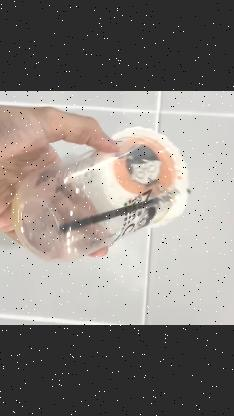Others: (11, 128, 190, 264)
